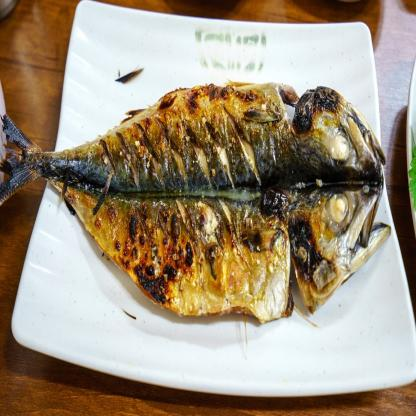Peixe: (0, 76, 385, 328)
